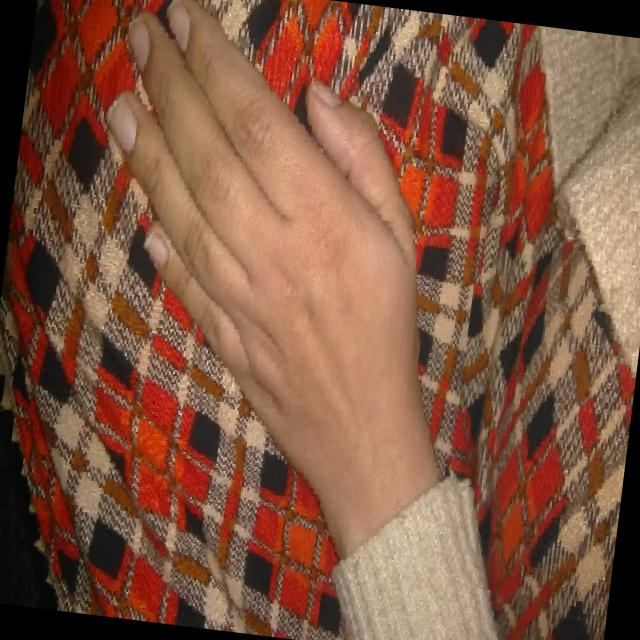Nail: (107, 93, 137, 153), (128, 16, 151, 69), (167, 0, 190, 51), (144, 229, 169, 267), (311, 79, 339, 106)
